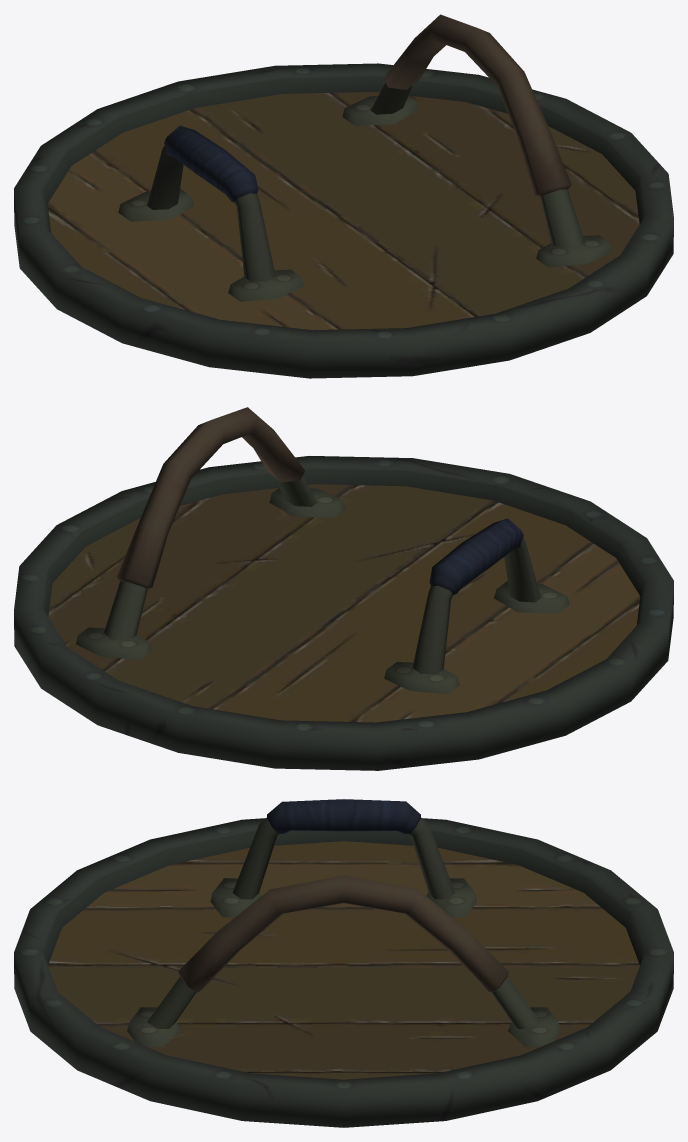
File: Weapon_Shield_032.glb
3 views of the same model, one above another, from view 1: azimuth 30°, elevation 25°; view 2: azimuth 150°, elevation 25°; view 3: azimuth 270°, elevation 25° (orthographic).
Parts seen in each view (by area): view 1: Weapon_Shield_032; view 2: Weapon_Shield_032; view 3: Weapon_Shield_032.
Part boxes in pixels (left/top/right/bottom): Weapon_Shield_032: left=14, top=14, right=673, bottom=378; Weapon_Shield_032: left=14, top=407, right=673, bottom=770; Weapon_Shield_032: left=14, top=799, right=673, bottom=1127.
Size of the model in its own units: 0.5905 by 0.1788 by 0.5903.
1 material, 1 textured.
